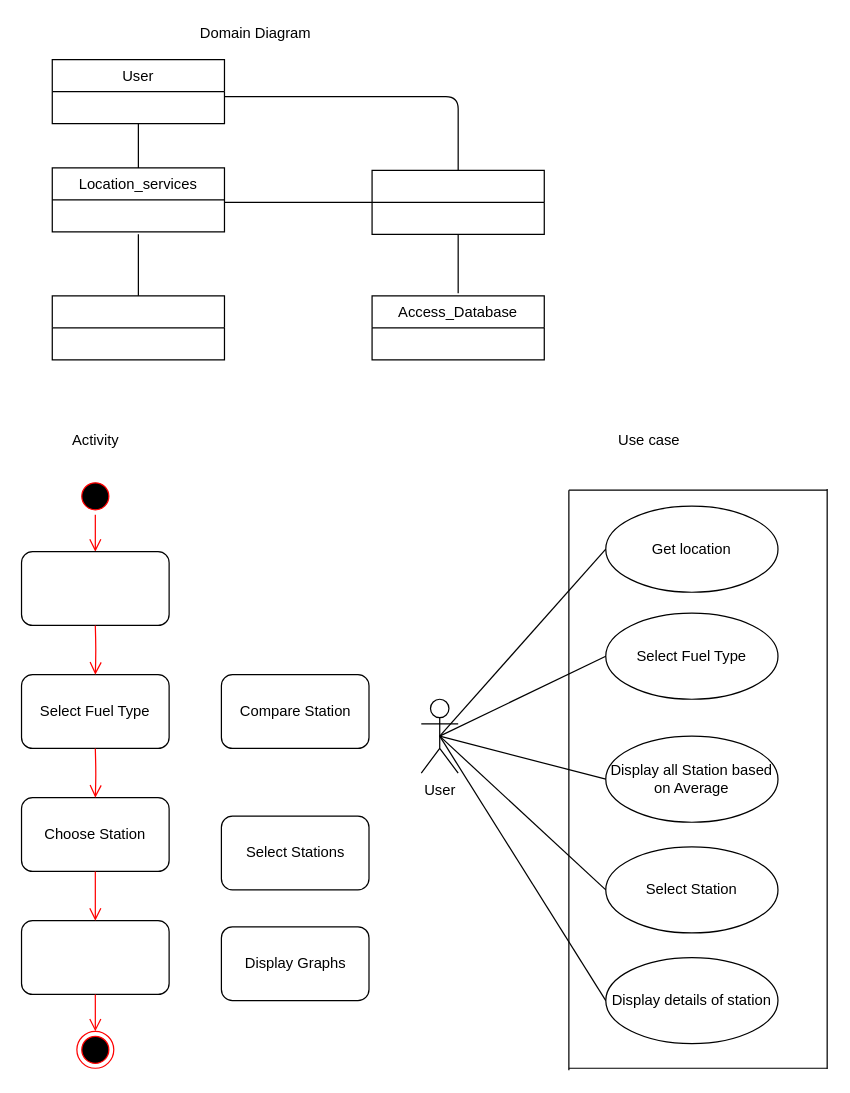
The diagram is 850 pixels wide and 1093 high, and some of its shapes have lost their labels. The centre of each missing label's shape, as x and y in pixels:
Display Station Details: the point at 94,956
Fuel_type: the point at 457,201
Get User Location: the point at 94,587
Maps_API: the point at 137,327
